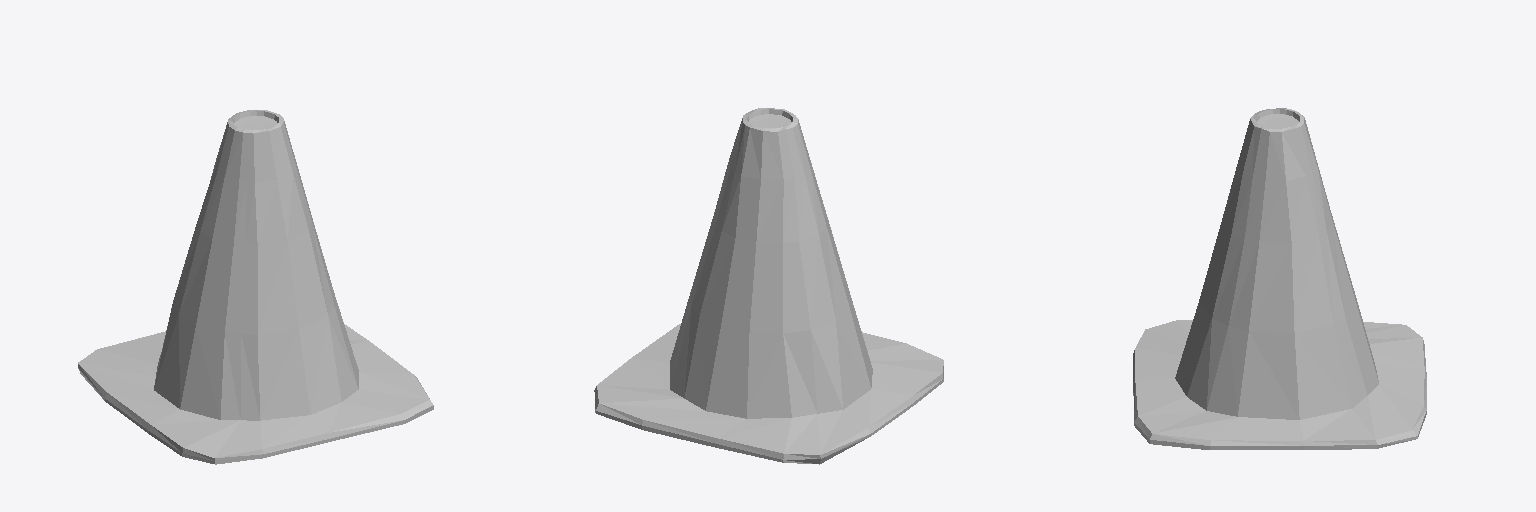
The model's file is flashlight.obj.
3 renders of one model, left to right at view 1: azimuth 30°, elevation 25°; view 2: azimuth 150°, elevation 25°; view 3: azimuth 270°, elevation 25°, orthographic.
Parts seen in each view (by area): view 1: Cone; view 2: Cone; view 3: Cone.
Part boxes in pixels (x1,y1,x2,y2): Cone: (78,110,433,464); Cone: (594,108,943,464); Cone: (1133,108,1426,449).
Bounding box in the file's own units: 2 × 2.05 × 2.